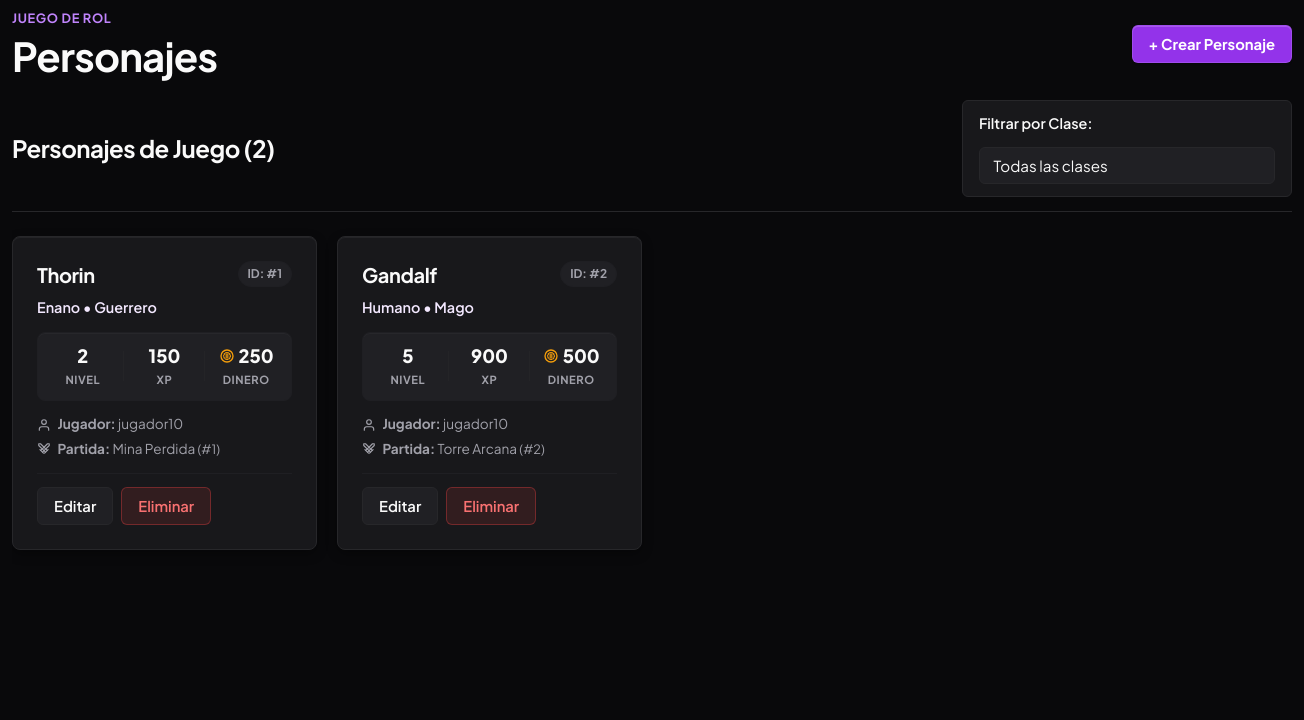
Test: PersonajesPage › permite filtrar personajes por clase y limpiar el filtro
This screenshot has width=1304, height=720.
Expected: the heading "Thorin" is shown, [37,261,95,289]
Select "Guerrero" in the dropdown labelled "Filtrar por Clase:" at (1127, 166), box [979,147,1275,184]
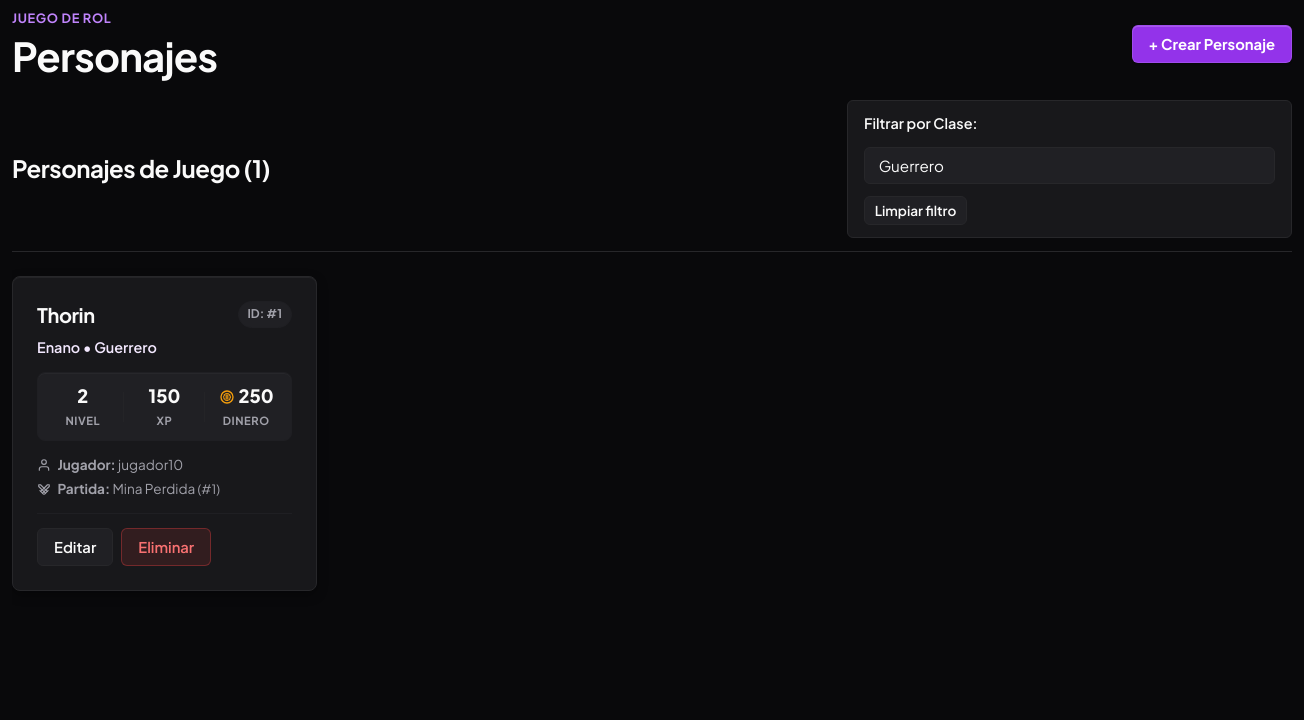
Expected: the heading "Thorin" is shown, [37,301,95,329]
Expected: the heading "Gandalf" is gone
Click the button "Limpiar filtro".
click(915, 210)  # box [864,196,967,225]
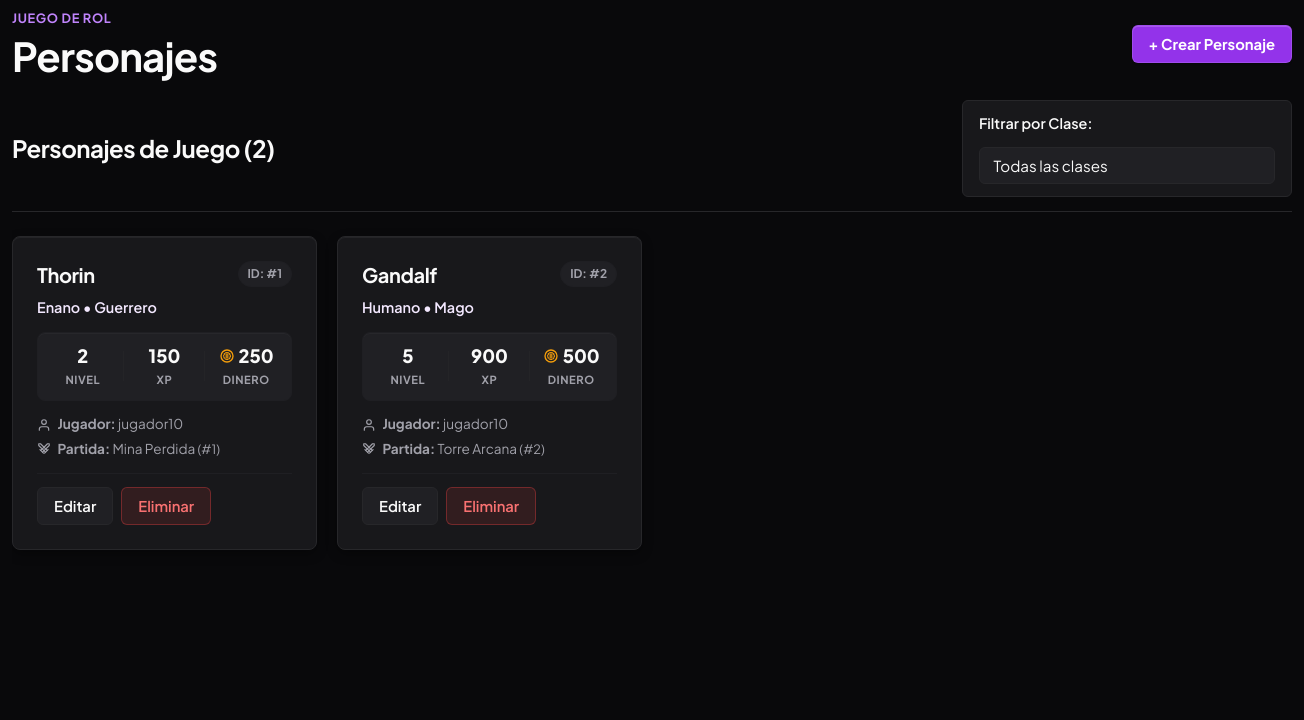
Expected: the heading "Gandalf" is shown, [362,261,437,289]
